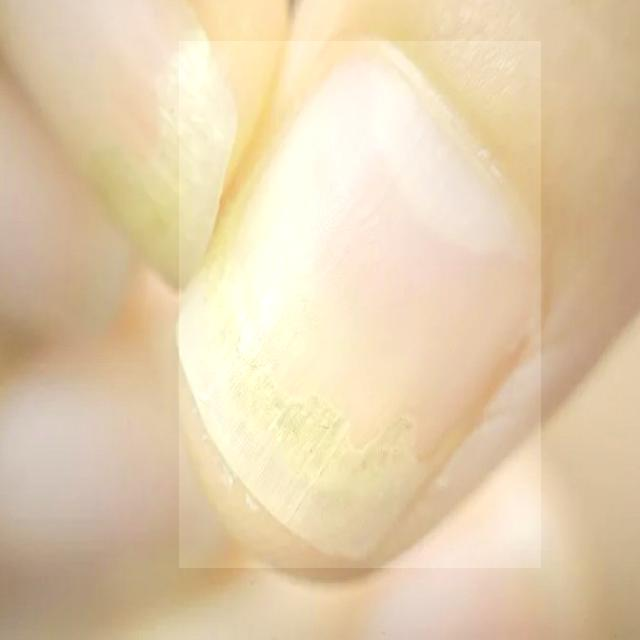diabetes: (179, 41, 541, 568)
